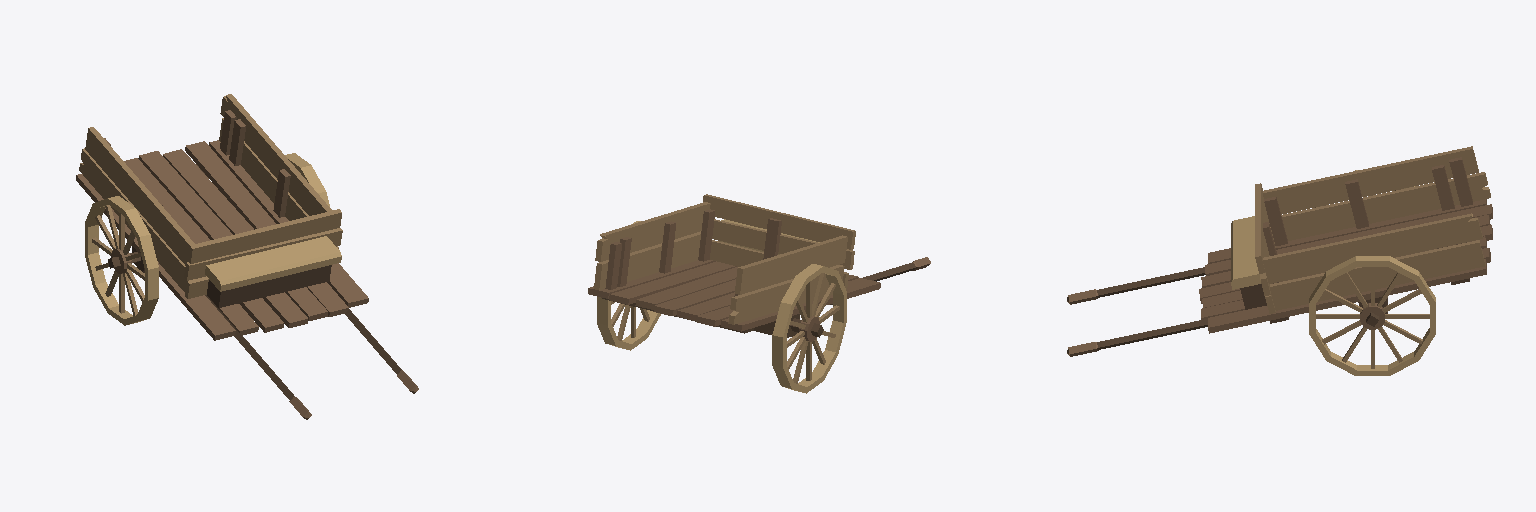
File: Prop_Cart_1.obj
3 renders of one model, left to right at view 1: azimuth 30°, elevation 25°; view 2: azimuth 150°, elevation 25°; view 3: azimuth 270°, elevation 25°, orthographic.
Visible parts, largest first — view 1: object12, object24, object1, object21, object5, object23, object10, object31, object9, object14, object11, object17 (+9 smaller); view 2: object24, object1, object23, object31, object4, object17, object11, object29, object5, object36, object10, object14 (+10 smaller); view 3: object31, object1, object11, object4, object36, object20, object13, object12, object2, object14, object33, object26 (+6 smaller).
Boxes of the visible parts, <box> form: object12: <box>205,236,341,307</box>; object24: <box>85,196,158,325</box>; object1: <box>85,127,194,265</box>; object21: <box>138,151,307,327</box>; object5: <box>185,141,348,316</box>; object23: <box>188,209,341,263</box>; object10: <box>163,149,327,320</box>; object31: <box>220,94,332,215</box>; object9: <box>124,158,283,332</box>; object14: <box>76,174,235,340</box>; object11: <box>79,148,186,291</box>; object17: <box>92,205,144,315</box>; object24: <box>772,264,846,393</box>; object1: <box>735,235,847,294</box>; object23: <box>703,194,855,249</box>; object31: <box>595,202,710,261</box>; object4: <box>594,231,700,290</box>; object17: <box>787,273,839,383</box>; object11: <box>728,265,844,324</box>; object29: <box>712,219,854,269</box>; object5: <box>609,261,736,304</box>; object36: <box>597,221,660,350</box>; object10: <box>635,267,737,309</box>; object14: <box>721,278,880,331</box>; object31: <box>1263,213,1482,283</box>; object1: <box>1263,146,1478,214</box>; object11: <box>1281,172,1490,240</box>; object4: <box>1270,240,1485,310</box>; object36: <box>1309,256,1435,375</box>; object20: <box>1208,259,1486,333</box>; object13: <box>1316,267,1429,368</box>; object12: <box>1231,216,1266,309</box>; object2: <box>1205,204,1492,275</box>; object14: <box>1208,199,1486,263</box>; object33: <box>1067,319,1207,356</box>; object26: <box>1067,267,1205,304</box>.
Bounding box in the file's own units: 1.8 × 1.3 × 3.36.